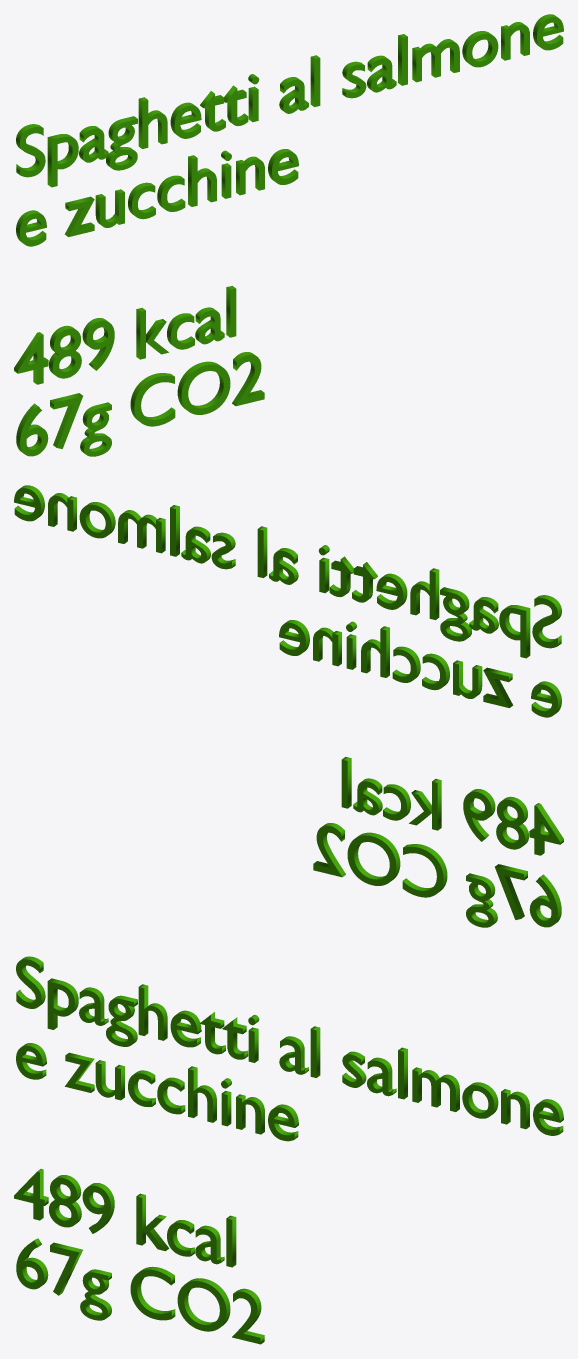
Rendered from spaghetti-salmone-scene.gltf.
The picture shows the model from 3 angles, top to bottom: view 1: azimuth 30°, elevation 25°; view 2: azimuth 150°, elevation 25°; view 3: azimuth 330°, elevation 25°; orthographic projection.
Parts seen in each view (by area): view 1: Text; view 2: Text; view 3: Text.
Part boxes in pixels (<box>): Text: <box>14,14,563,456</box>; Text: <box>14,485,563,927</box>; Text: <box>14,956,563,1344</box>.
Size of the model in its own units: 8.17 by 4.92 by 0.1.
